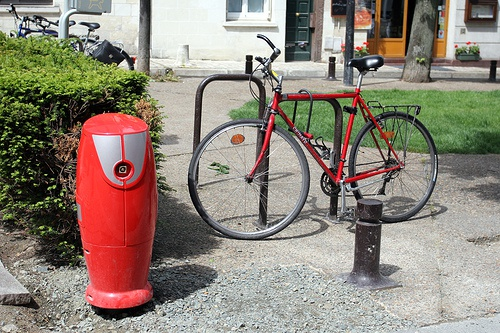non-vehicle: (186, 32, 439, 239), (73, 21, 135, 70)
